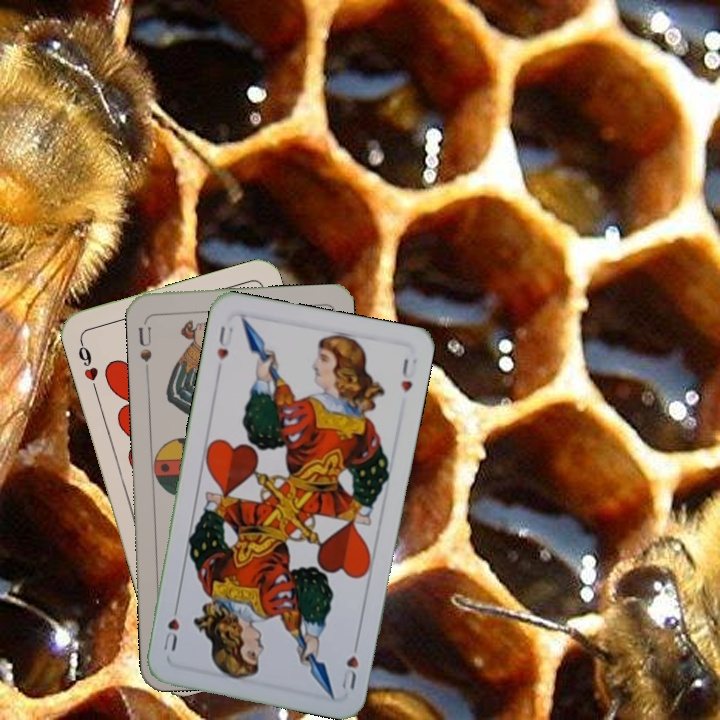H9: (74, 336, 101, 394)
HU: (338, 635, 361, 693), (213, 322, 236, 363)
SU: (134, 316, 154, 375)
